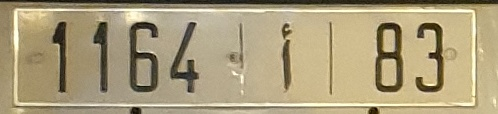1: (50, 19, 70, 93), (90, 20, 110, 93)
3: (413, 21, 446, 93)
4: (167, 19, 202, 94)
6: (127, 20, 161, 93)
8: (372, 20, 405, 94)
a: (277, 21, 295, 94)
